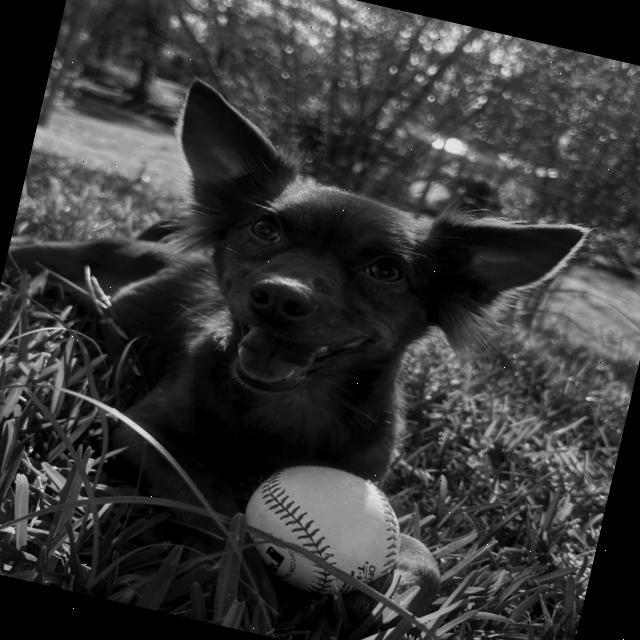chihuahua_dog: (113, 70, 610, 473)
